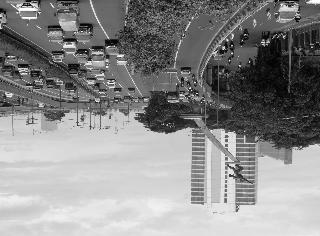mobil: (56, 0, 82, 32), (274, 0, 300, 22), (16, 0, 42, 20), (74, 24, 92, 42), (91, 46, 105, 68), (105, 38, 121, 55), (50, 27, 64, 43), (64, 40, 78, 54), (178, 65, 192, 79), (66, 63, 80, 77), (75, 48, 89, 61), (51, 51, 65, 63), (1, 66, 15, 78), (18, 64, 30, 74), (76, 69, 88, 79), (106, 78, 115, 88), (88, 78, 96, 86)
motor: (293, 8, 303, 22), (242, 29, 250, 41), (230, 40, 234, 52), (240, 36, 244, 46)
